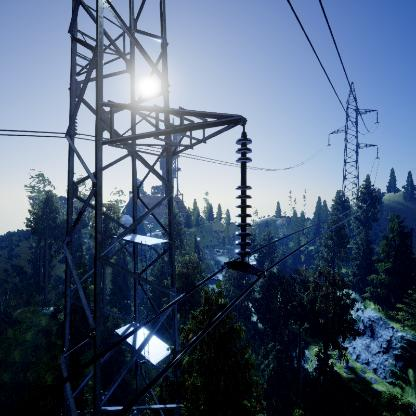insulator: (233, 136, 253, 261)
tower: (324, 77, 382, 214)
